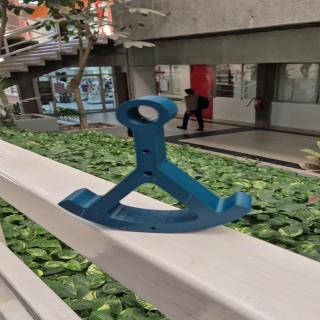haptic: (57, 94, 254, 234)
